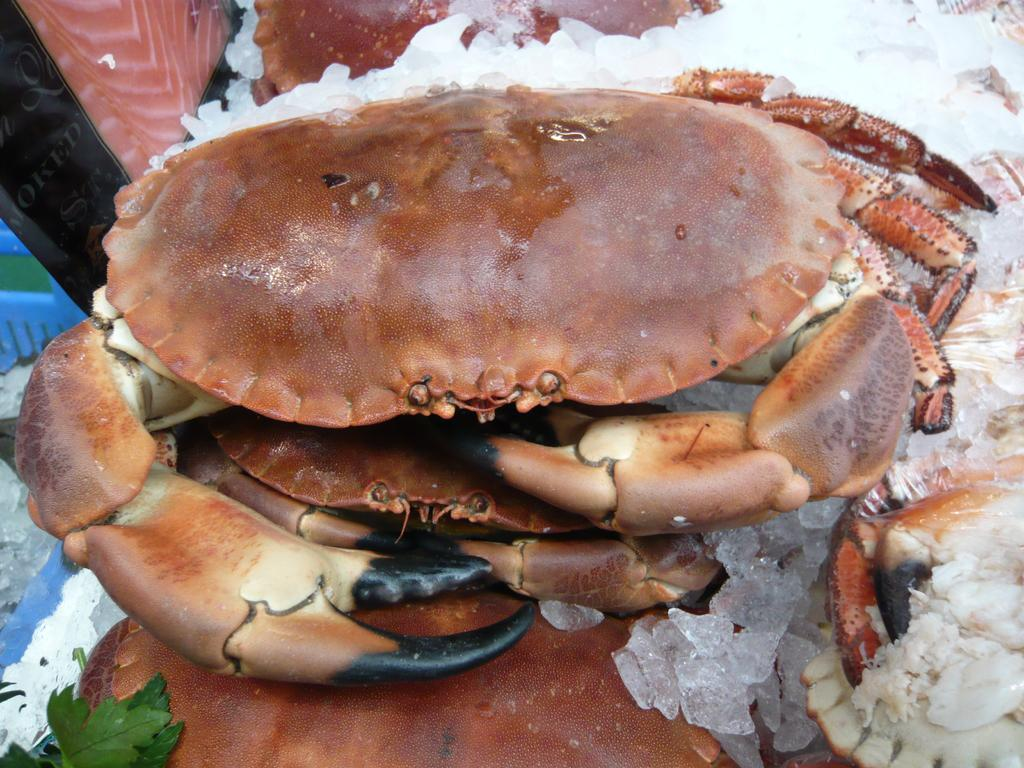Crab: (17, 68, 997, 695), (791, 444, 1023, 767)
